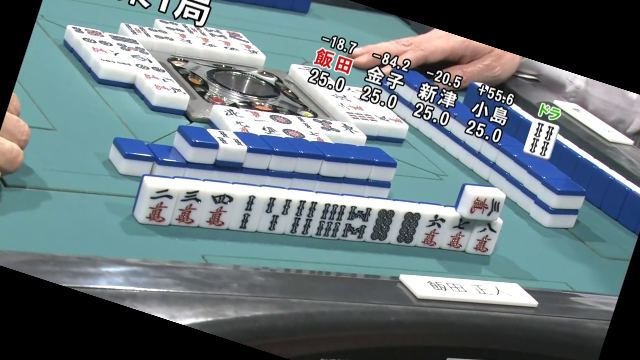Tehai: (141, 171, 509, 262)
